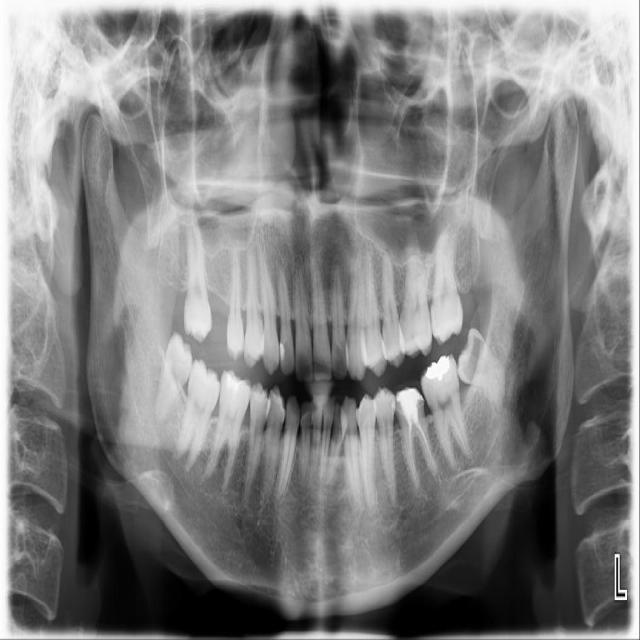52: (410, 349, 471, 407), (211, 366, 258, 419), (392, 384, 425, 416), (280, 332, 295, 374)
73: (395, 412, 442, 491), (610, 574, 612, 580)
BioHorizons Implant: (426, 225, 465, 344)
Biomet 3i Implant: (439, 324, 526, 423)
Blue Sky Bio Implant: (417, 351, 473, 476)
Caries: (183, 210, 214, 344)
Implant: (173, 355, 225, 474)
Keystone Dental Implant: (146, 328, 202, 429)
